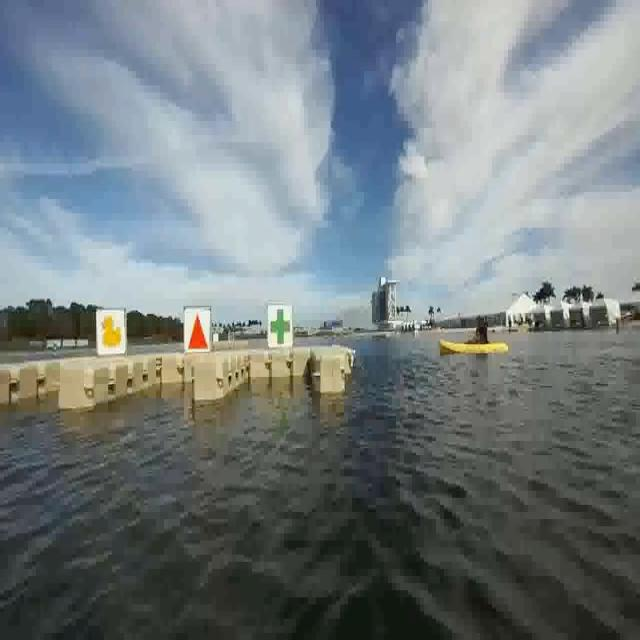blue-cross: (269, 305, 291, 346)
red-dot: (185, 308, 210, 350)
yellow-duck: (98, 311, 125, 348)
